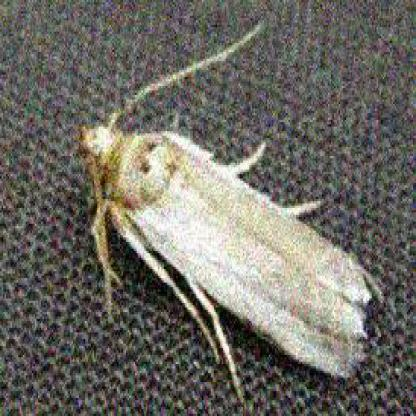Leaf Webber: (73, 108, 381, 405)
